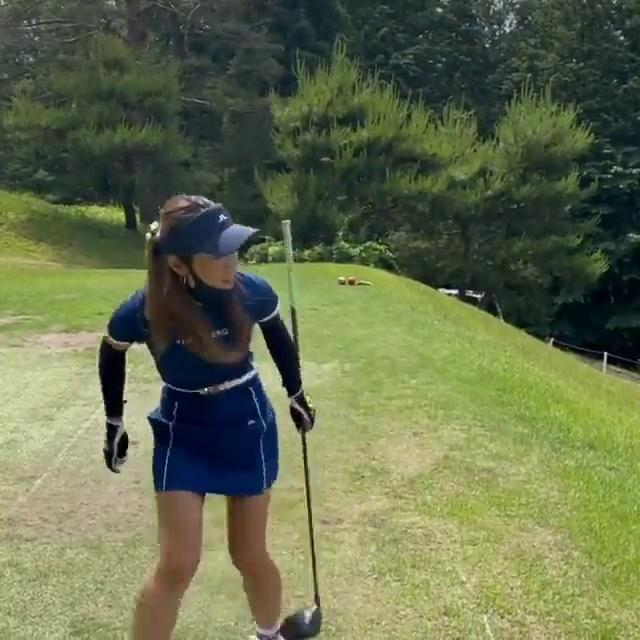golf club-handle: (279, 219, 322, 640)
golf club-head: (281, 606, 322, 640)
